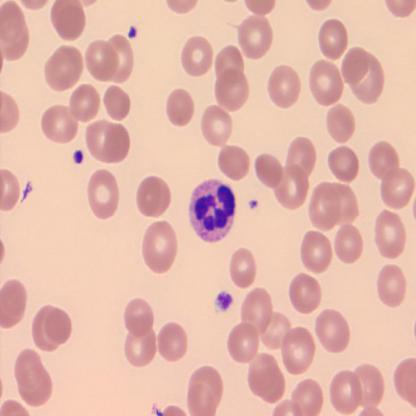Segmented neutrophil: (188, 178, 239, 245)
